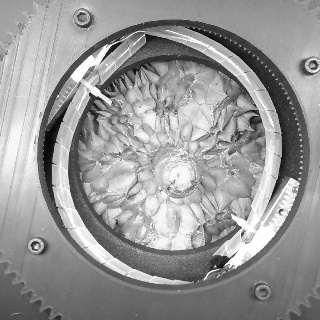base: (147, 141, 199, 179)
end: (167, 163, 192, 192)
